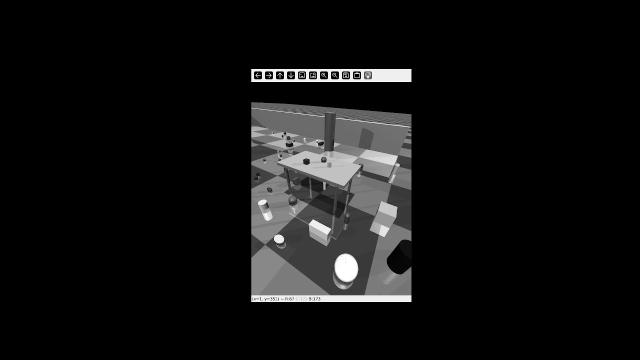cilindro: (387, 240, 413, 279), (324, 109, 335, 152), (259, 198, 271, 212), (390, 163, 400, 176), (344, 212, 352, 226), (320, 178, 328, 191), (356, 162, 366, 172), (255, 169, 261, 176), (317, 142, 327, 146), (279, 152, 282, 158), (276, 149, 280, 153)
cuadrado: (304, 217, 337, 241), (373, 199, 397, 227), (291, 177, 302, 186), (300, 158, 311, 164), (301, 136, 307, 142), (285, 139, 293, 143), (285, 136, 291, 140), (270, 131, 275, 135), (283, 130, 287, 135)
esfera: (331, 251, 362, 284), (285, 194, 300, 207), (274, 233, 286, 244), (263, 184, 274, 194), (319, 156, 327, 163), (277, 158, 286, 164), (315, 138, 320, 143), (263, 157, 267, 163)
rectangulo: (285, 143, 293, 148)
